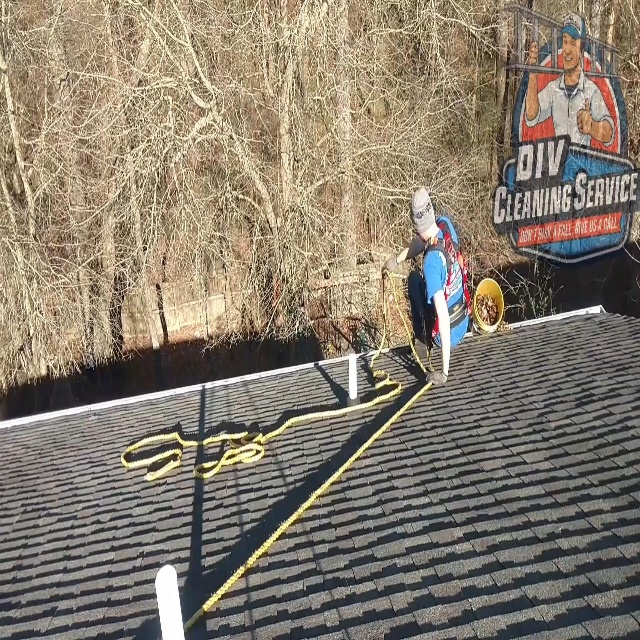Arnes_seguridad: (422, 224, 475, 348)
